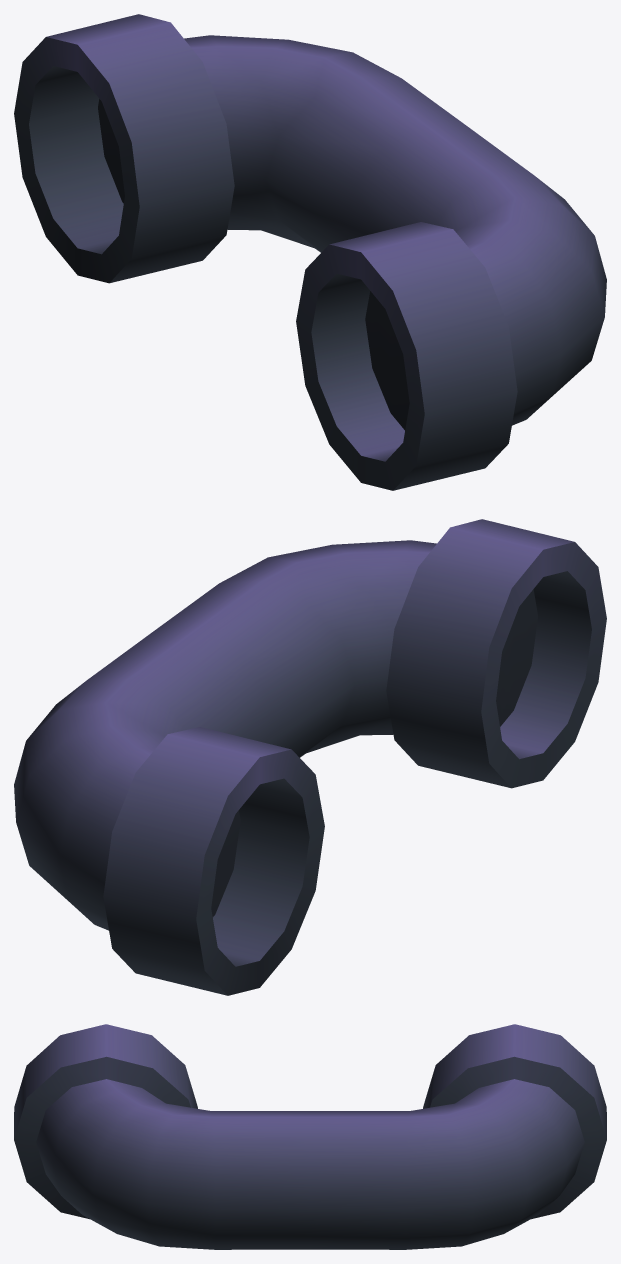
Rendered from undead_pipe_U.fbx.
3 views of the same model, one above another, from view 1: azimuth 30°, elevation 25°; view 2: azimuth 150°, elevation 25°; view 3: azimuth 270°, elevation 25° (orthographic). The views are drawn at different scales.
Visible parts, largest first — view 1: undead_pipe_U; view 2: undead_pipe_U; view 3: undead_pipe_U.
Boxes of the visible parts, x1=… form: undead_pipe_U: x1=14, y1=14, x2=606, y2=490; undead_pipe_U: x1=14, y1=519, x2=606, y2=995; undead_pipe_U: x1=14, y1=1024, x2=606, y2=1249.
Size of the model in its own units: 2.1 by 1.58 by 5.12.
